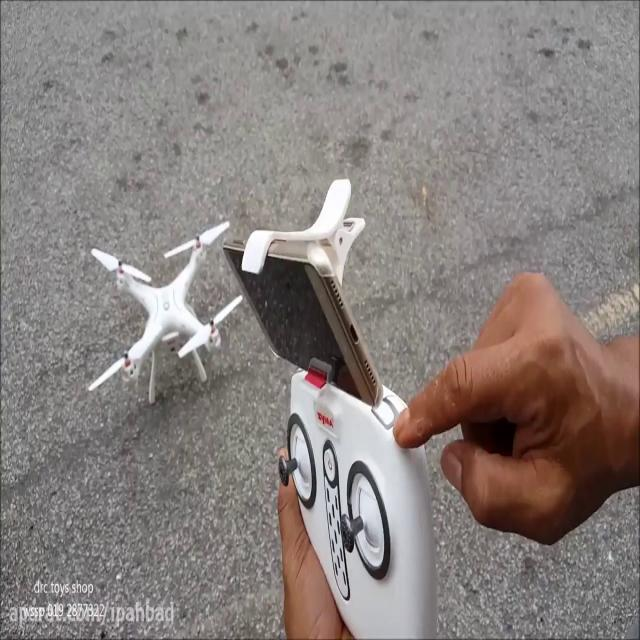drone: (82, 212, 242, 406)
